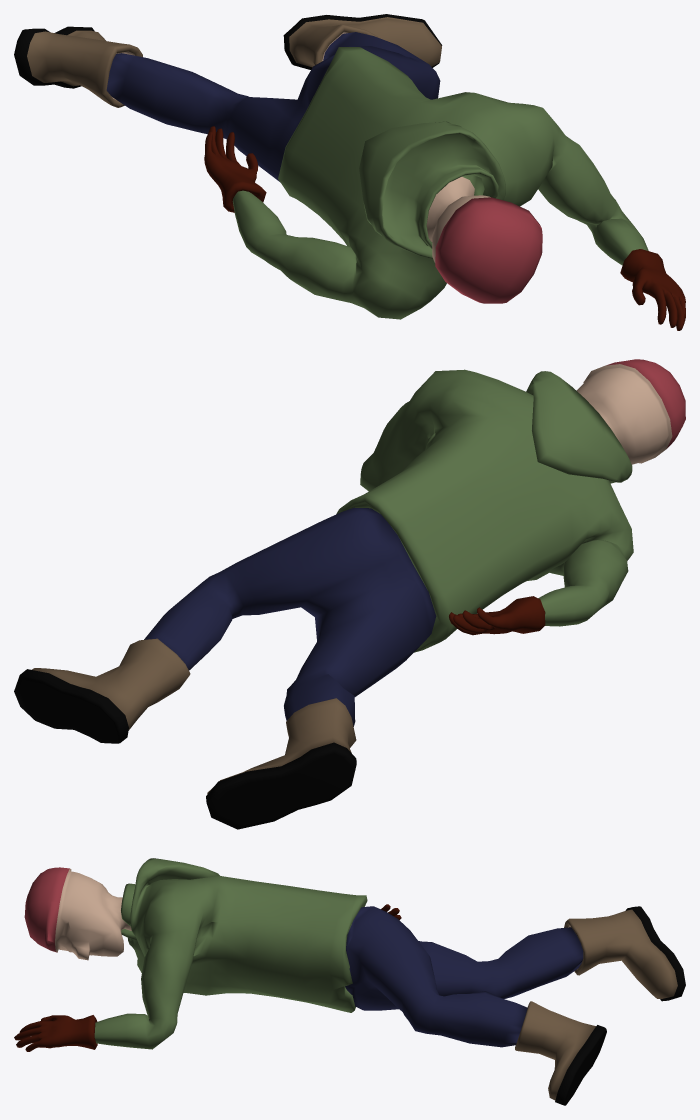
The model's file is victim.dae.
3 renders of one model, top to bottom at view 1: azimuth 30°, elevation 25°; view 2: azimuth 150°, elevation 25°; view 3: azimuth 270°, elevation 25°, orthographic. The views are drawn at different scales.
Visible parts, largest first — view 1: AvalancheVictim; view 2: AvalancheVictim; view 3: AvalancheVictim.
Boxes of the visible parts, x1,y1,x2,y2 form: AvalancheVictim: (14, 14, 685, 330); AvalancheVictim: (14, 359, 685, 829); AvalancheVictim: (14, 858, 685, 1105).
Bounding box in the file's own units: 0.9003 × 1.78 × 0.4522.
